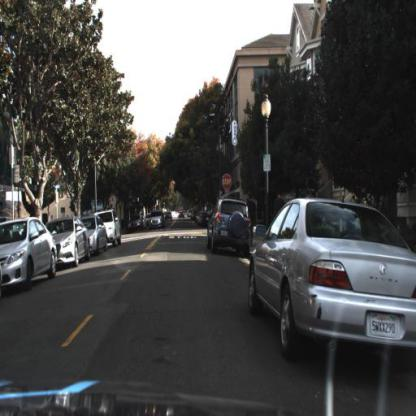car: (247, 197, 416, 364), (3, 217, 60, 295), (206, 196, 253, 255), (49, 215, 91, 270), (98, 207, 123, 252), (83, 216, 109, 254), (105, 207, 124, 251), (148, 208, 166, 234), (149, 210, 167, 231), (127, 214, 144, 232)
pedestrian: (274, 192, 286, 225)
